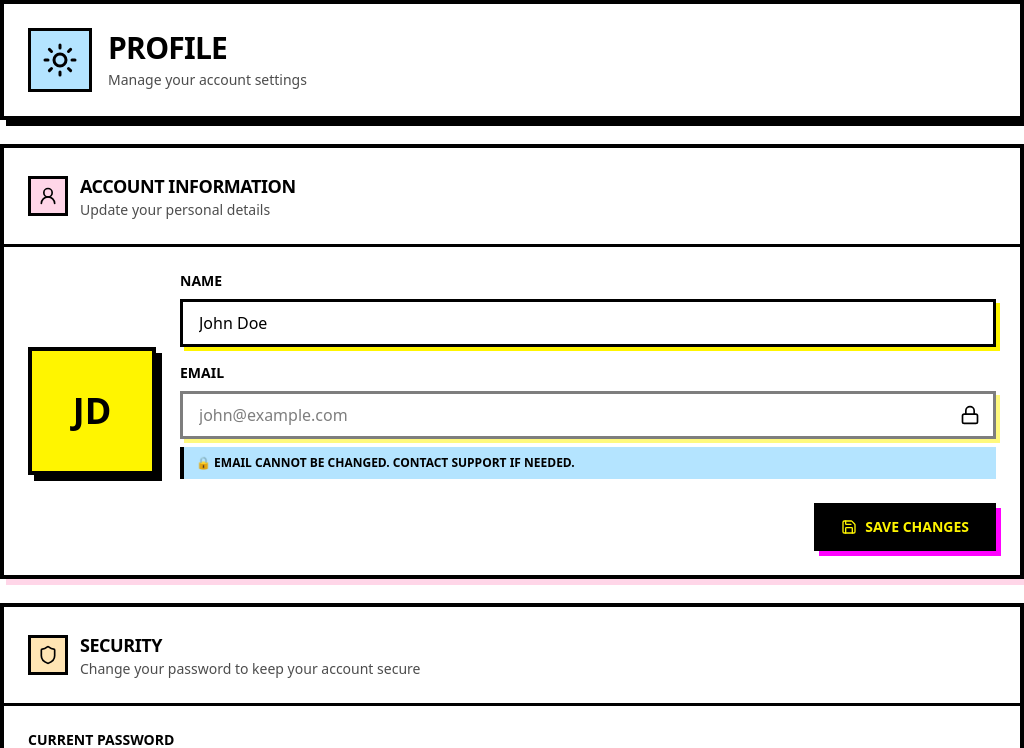
Scenario: Profile - Functional Tests › Name Update › should update name successfully
Replace the text in the field with placeholder "Your name" below "Name" with "Jane Smith" at (588, 323), box left=180, top=299, right=996, bottom=347
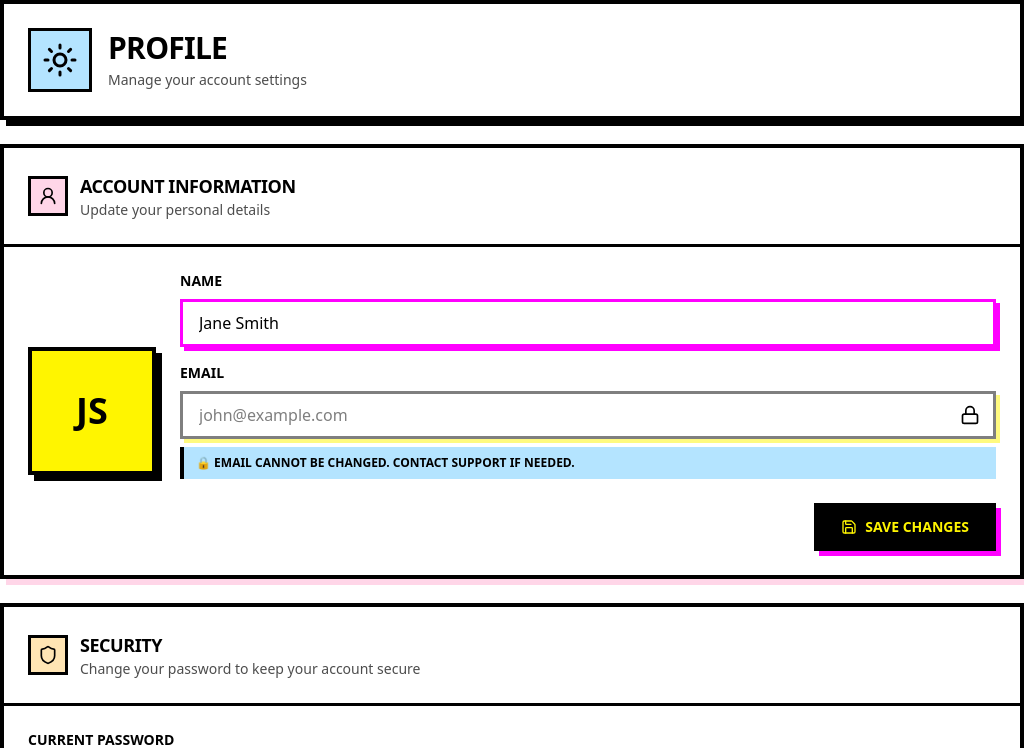
Click the button "Save Changes".
click(905, 527)  # box left=814, top=503, right=996, bottom=551
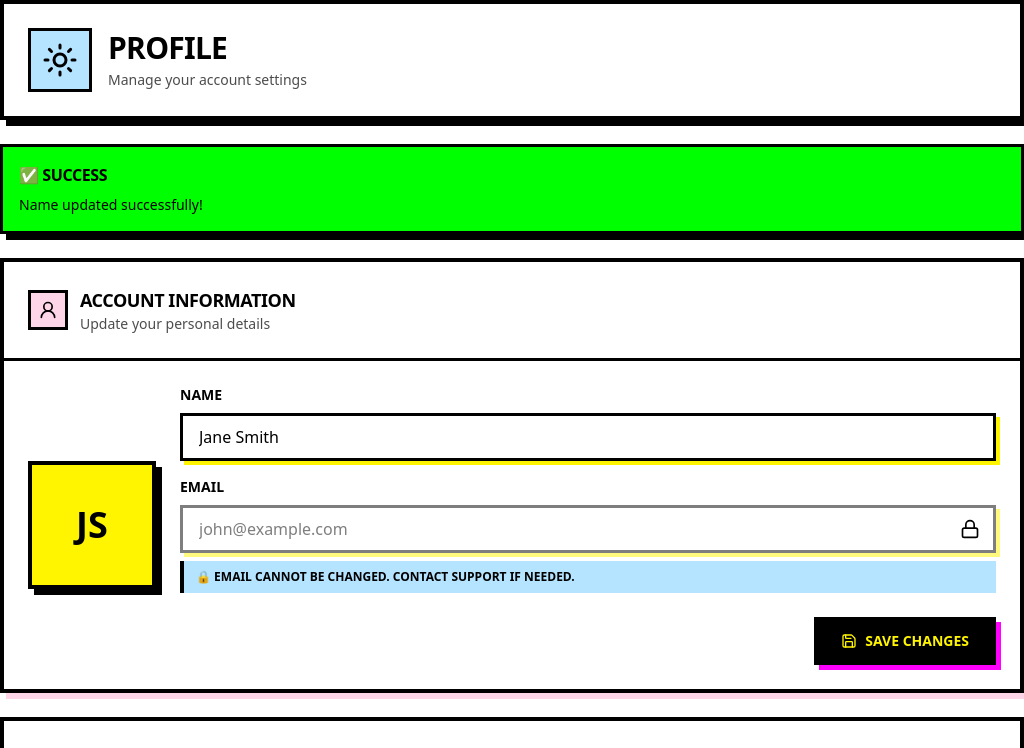
Now the text "Name updated successfully!" is shown, box left=19, top=195, right=203, bottom=214
